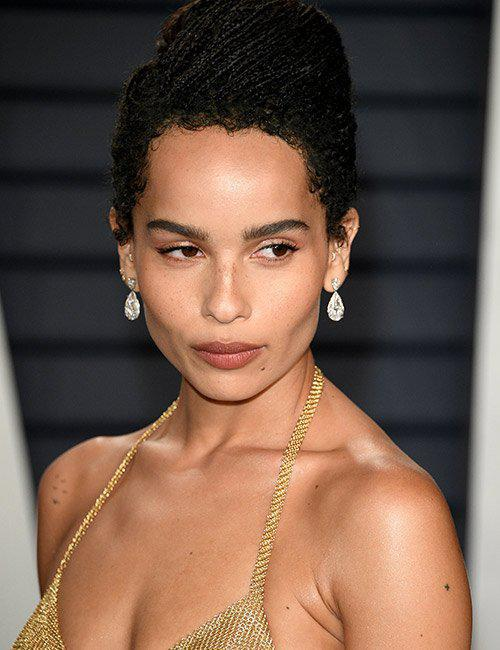Sober: (139, 140, 315, 391)
